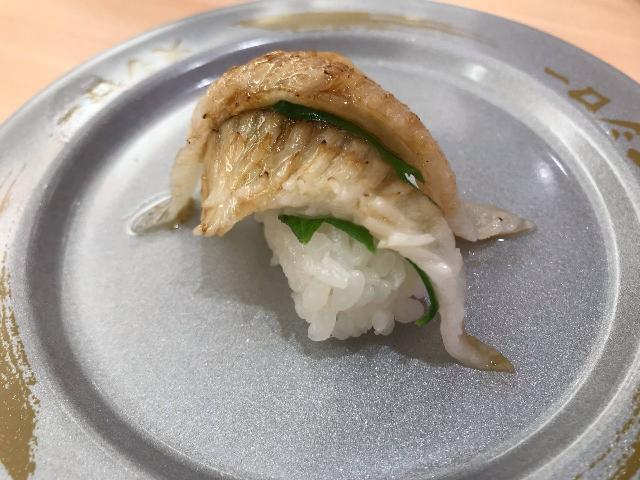janwhite: (7, 16, 640, 480)
